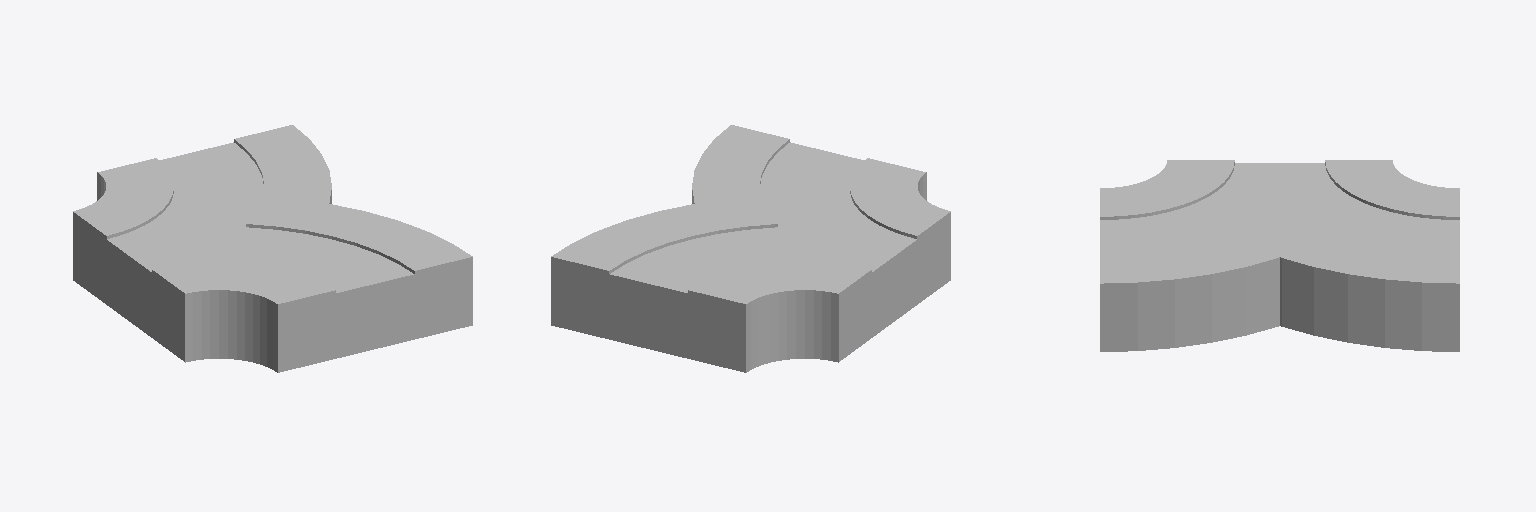
File: tile144.obj
The picture shows the model from 3 angles: view 1: azimuth 30°, elevation 25°; view 2: azimuth 150°, elevation 25°; view 3: azimuth 270°, elevation 25°; orthographic projection.
Visible parts, largest first — view 1: tile144; view 2: tile144; view 3: tile144.
Part boxes in pixels (x1,y1,x2,y2): tile144: (73,125,472,372); tile144: (551,125,950,372); tile144: (1100,160,1459,351).
Bounding box in the file's own units: 0.8125 × 0.21 × 1.